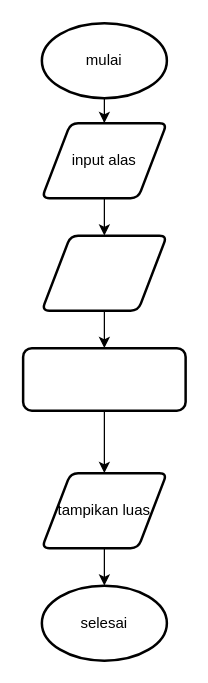
The diagram is 208 pixels wide and 683 high, and some of its shapes have lost their labels. Each missing label, with the centre of its shape:
input tinggi: point (104, 272)
luas (alas tinggi) 2: point (103, 378)
